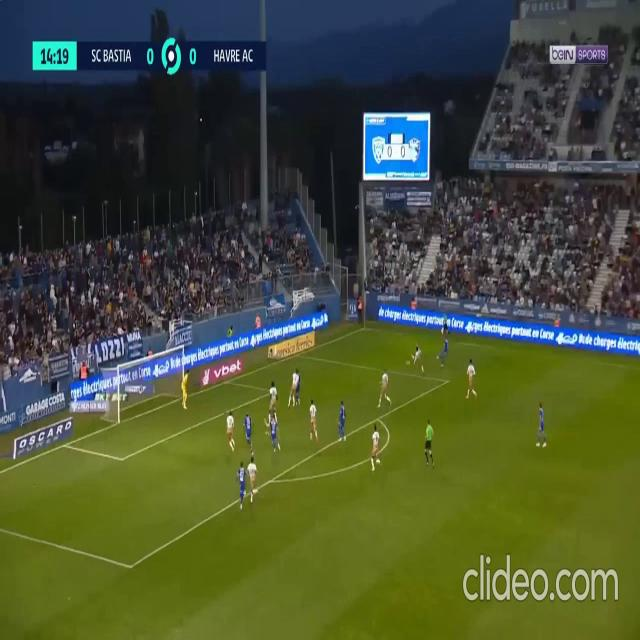goalkeeper: (180, 368, 189, 411)
player: (235, 458, 247, 508), (377, 368, 391, 409), (268, 408, 281, 452), (465, 358, 478, 401), (371, 425, 382, 471), (289, 366, 301, 408), (243, 410, 254, 454), (248, 454, 258, 499), (536, 403, 546, 447), (309, 398, 319, 441), (267, 380, 277, 420), (338, 399, 347, 442), (438, 334, 449, 366), (409, 344, 423, 368), (227, 410, 235, 450)
referee: (424, 418, 435, 466), (359, 294, 367, 328)
